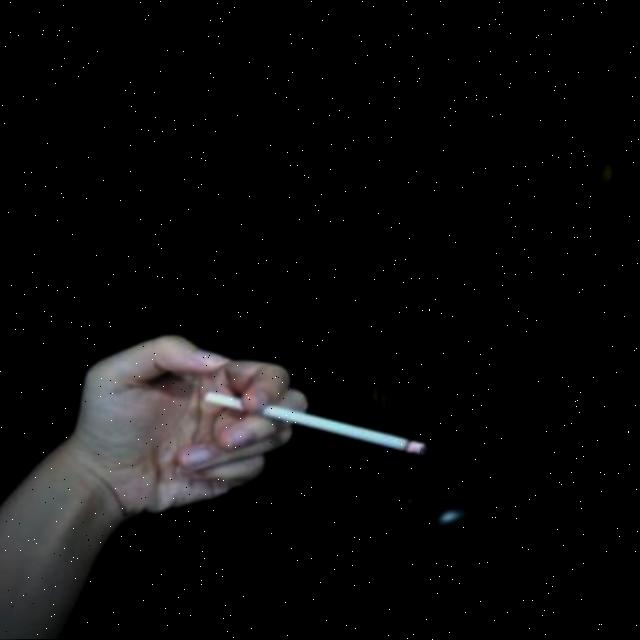cigarette: (201, 387, 432, 463)
